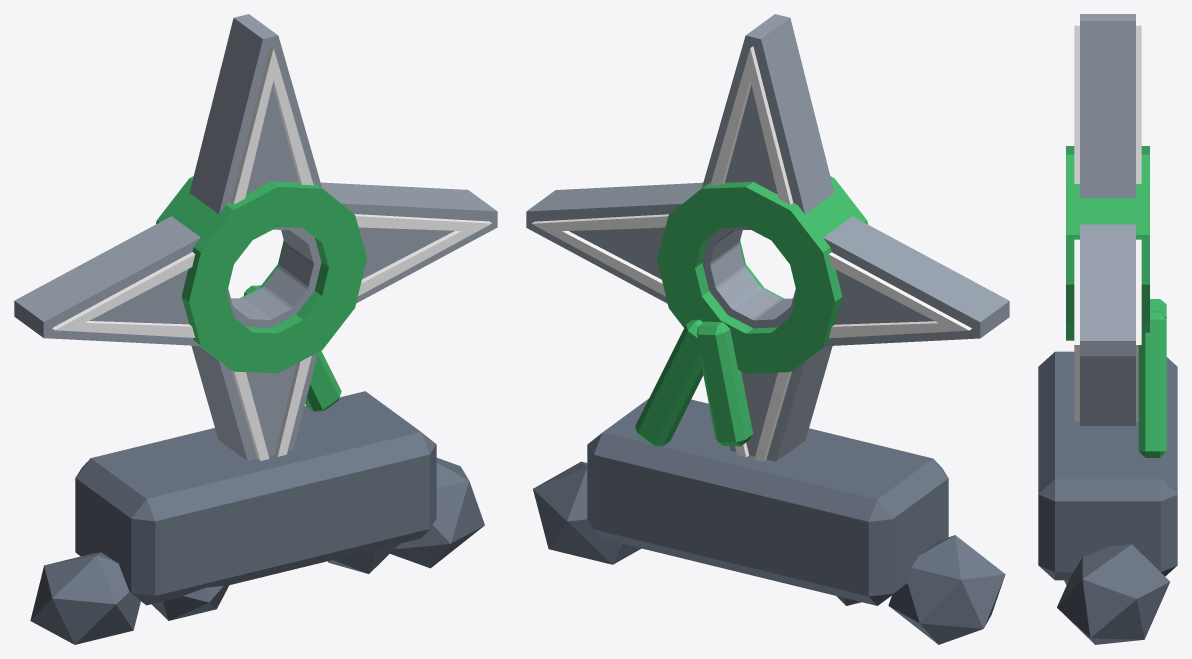
The model's file is Prop_ninja_village_GiantShuriken.glb.
The picture shows the model from 3 angles, left to right: view 1: azimuth 30°, elevation 25°; view 2: azimuth 150°, elevation 25°; view 3: azimuth 270°, elevation 25°; orthographic projection. The views are drawn at different scales.
Visible parts, largest first — view 1: StoneDark_6B7686, Steel_9AA4B2, LeafGreen_3FBF6A, White_FFFFFF; view 2: StoneDark_6B7686, Steel_9AA4B2, LeafGreen_3FBF6A, White_FFFFFF; view 3: StoneDark_6B7686, Steel_9AA4B2, LeafGreen_3FBF6A, White_FFFFFF.
Part boxes in pixels (x1,y1,x2,y2): StoneDark_6B7686: [30, 391, 484, 644]; Steel_9AA4B2: [14, 14, 497, 461]; LeafGreen_3FBF6A: [156, 176, 366, 411]; White_FFFFFF: [52, 46, 491, 460]; StoneDark_6B7686: [533, 398, 1005, 644]; Steel_9AA4B2: [526, 14, 1009, 461]; LeafGreen_3FBF6A: [635, 176, 867, 446]; White_FFFFFF: [531, 46, 971, 461]; StoneDark_6B7686: [1038, 351, 1177, 644]; Steel_9AA4B2: [1080, 14, 1135, 425]; LeafGreen_3FBF6A: [1066, 146, 1166, 457]; White_FFFFFF: [1074, 25, 1141, 421].
Bounding box in the file's own units: 8.92 × 10.86 × 2.5.
